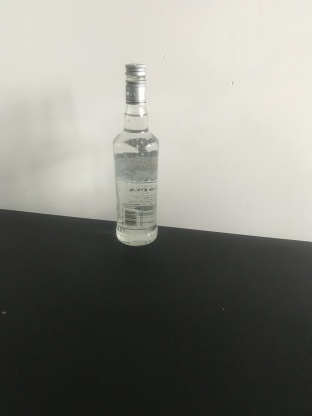nakretka: (123, 62, 147, 105)
